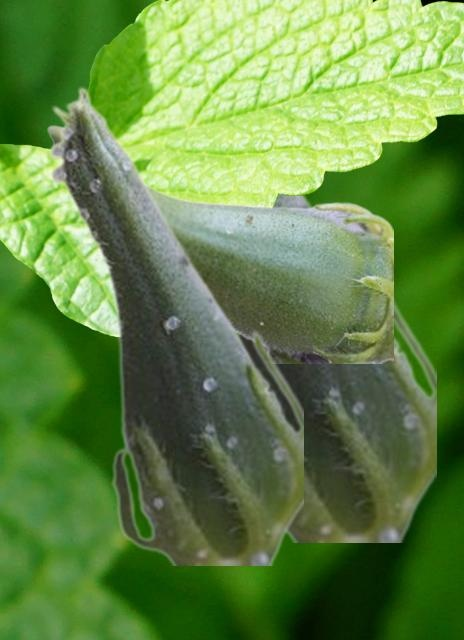okra: (47, 86, 302, 564), (46, 124, 392, 362), (244, 195, 435, 541)
